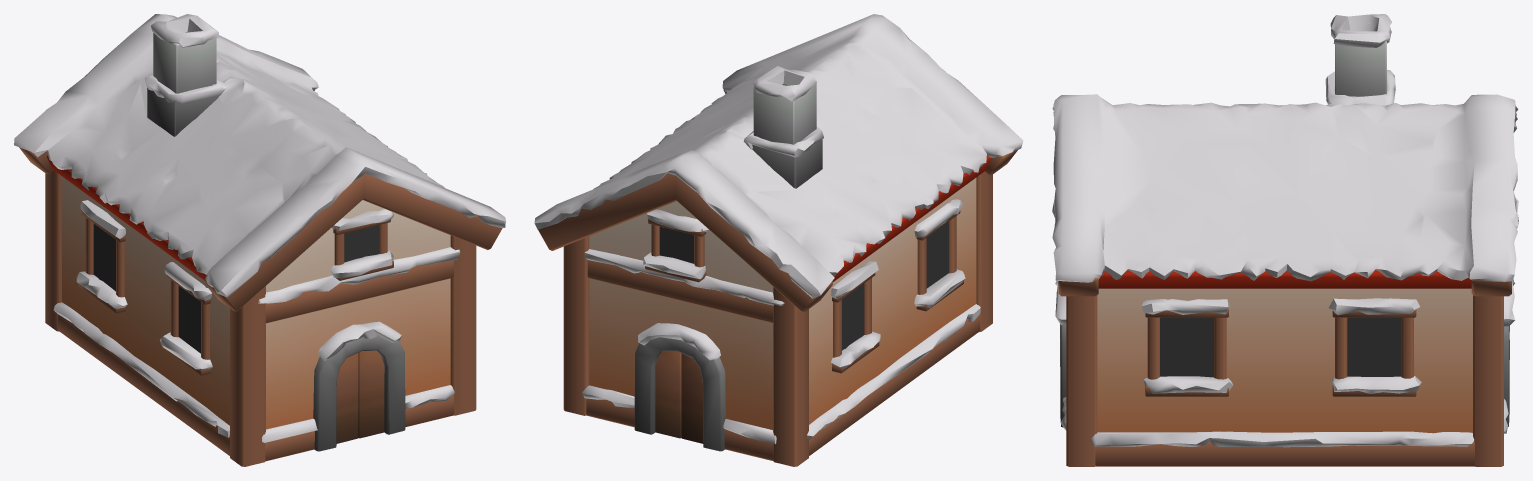
The model's file is HouseSnowy_3.fbx.
3 renders of one model, left to right at view 1: azimuth 30°, elevation 25°; view 2: azimuth 150°, elevation 25°; view 3: azimuth 270°, elevation 25°, orthographic. The views are drawn at different scales.
Parts seen in each view (by area): view 1: HouseSnowy_3; view 2: HouseSnowy_3; view 3: HouseSnowy_3.
Part boxes in pixels (left/top/right/bottom): HouseSnowy_3: left=14, top=14, right=505, bottom=466; HouseSnowy_3: left=534, top=14, right=1023, bottom=466; HouseSnowy_3: left=1052, top=14, right=1518, bottom=466.
Bounding box in the file's own units: 348 × 375 × 441.
